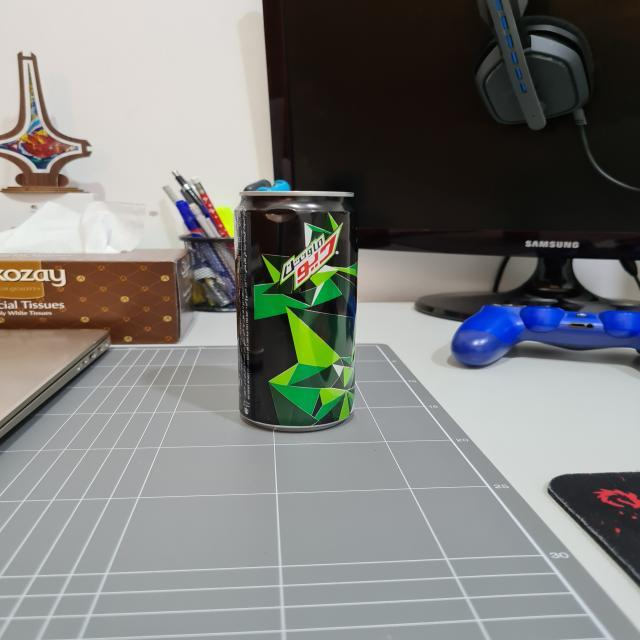can: (235, 188, 358, 432)
